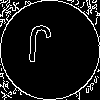J: (25, 25, 53, 73)
